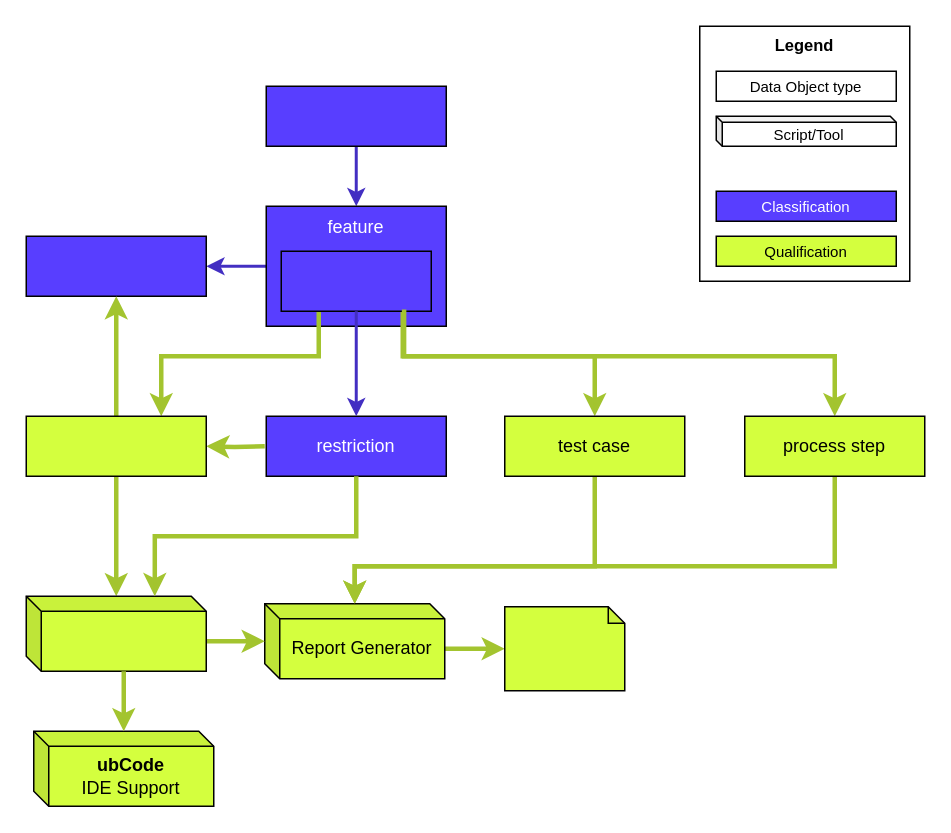
This 951x833 diagram has some shape labels left out. Each missing label, with the centre of its shape:
"check" goes at (115,445).
"fault" goes at (355,280).
"HTML Report" goes at (564,648).
"tool" goes at (115,265).
"ubc CLI Checker" goes at (115,633).
"use case" goes at (355,115).
